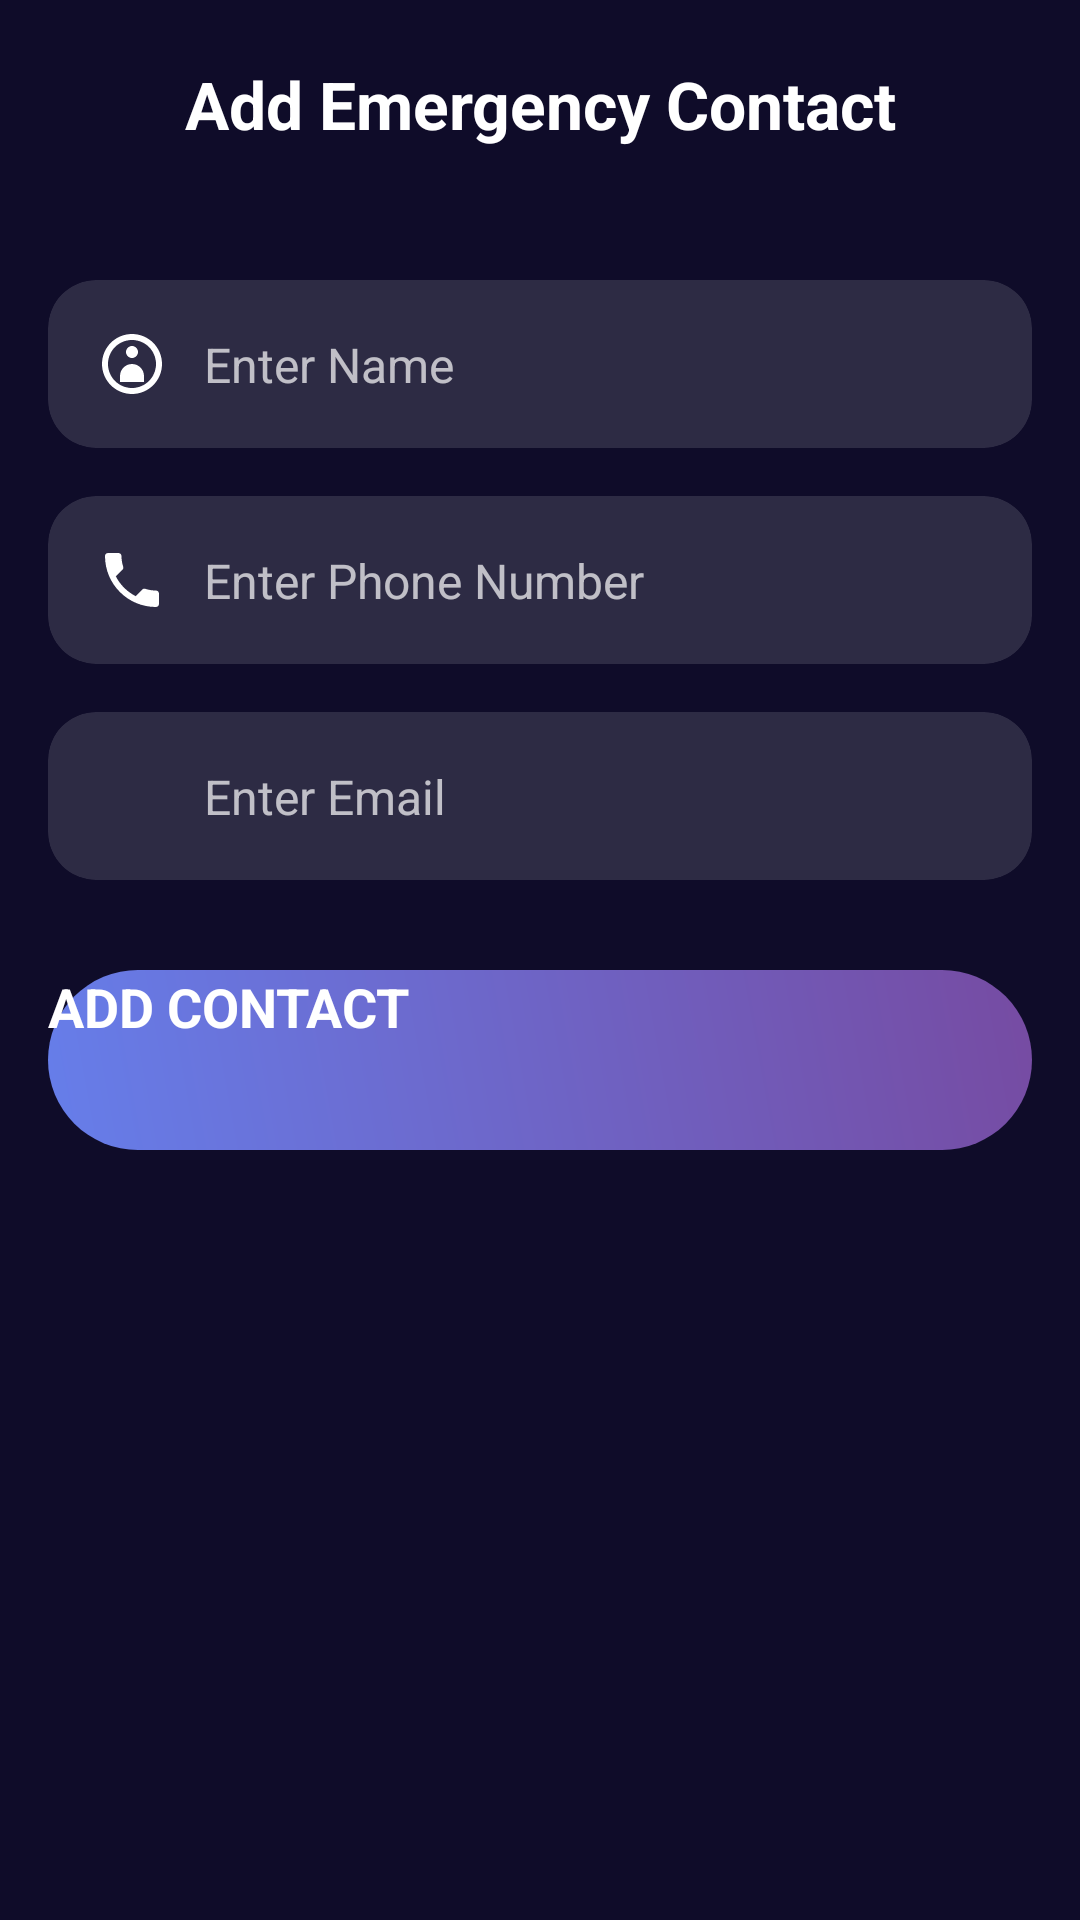

Where to tap for icons on this 1080w x 1920h app screen, as (x,y):
person: (132,364)
